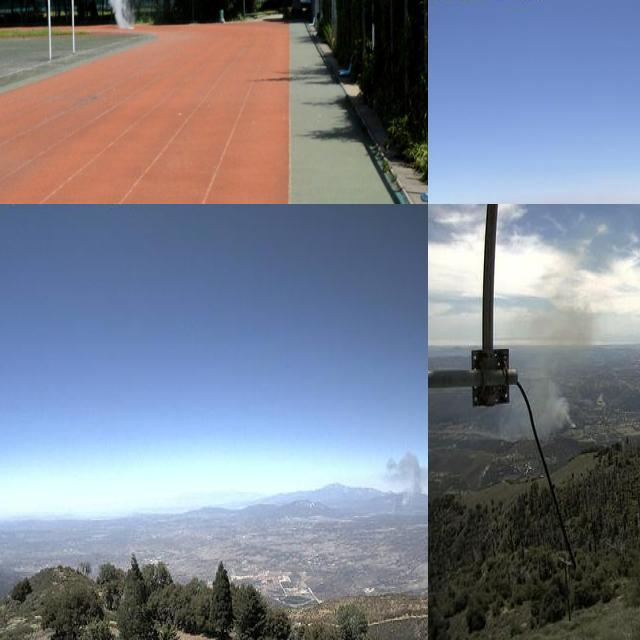smoke: (515, 255, 599, 436), (381, 446, 428, 517), (104, 0, 151, 31)
